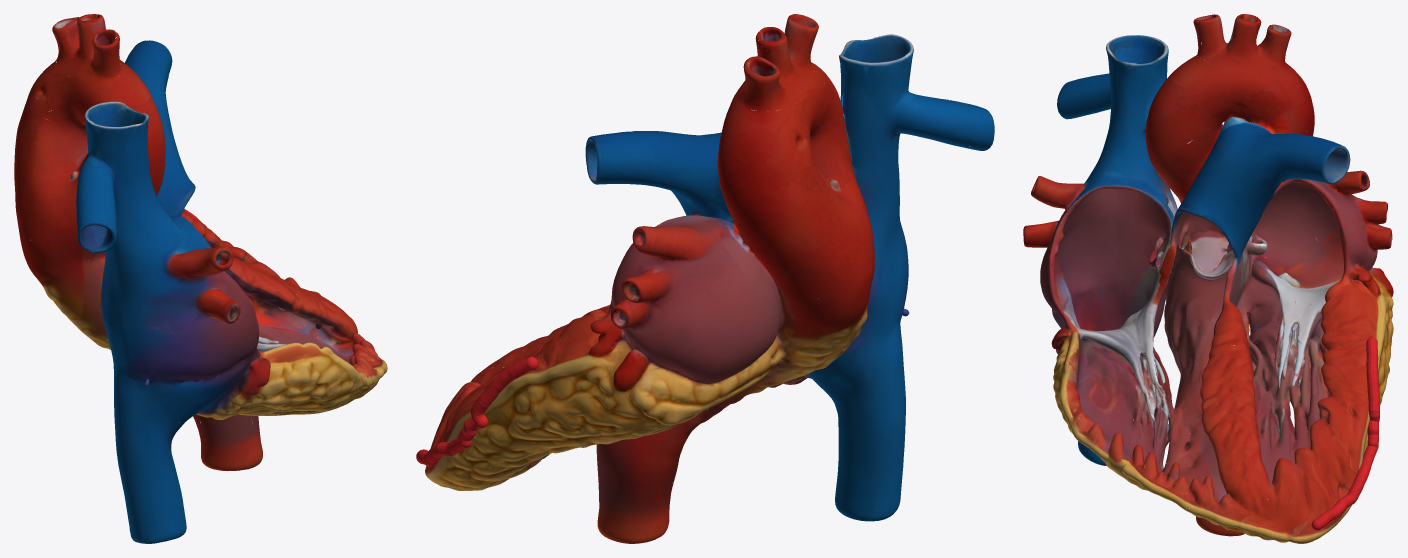
The model's file is heart-healthy.glb.
3 renders of one model, left to right at view 1: azimuth 30°, elevation 25°; view 2: azimuth 150°, elevation 25°; view 3: azimuth 270°, elevation 25°, orthographic. The views are drawn at different scales.
Parts seen in each view (by area): view 1: group; view 2: group, heart-healthy-add_0; view 3: group, heart-healthy-add_0.
Part boxes in pixels (box(x1,y1,x2,y2)): group: box(14, 14, 387, 543); group: box(425, 14, 994, 543); heart-healthy-add_0: box(416, 356, 538, 466); group: box(1023, 14, 1393, 543); heart-healthy-add_0: box(1311, 337, 1379, 530).
Size of the model in its own units: 0.1092 by 0.13 by 0.097.
Materials: 2 (1 with a texture image).
